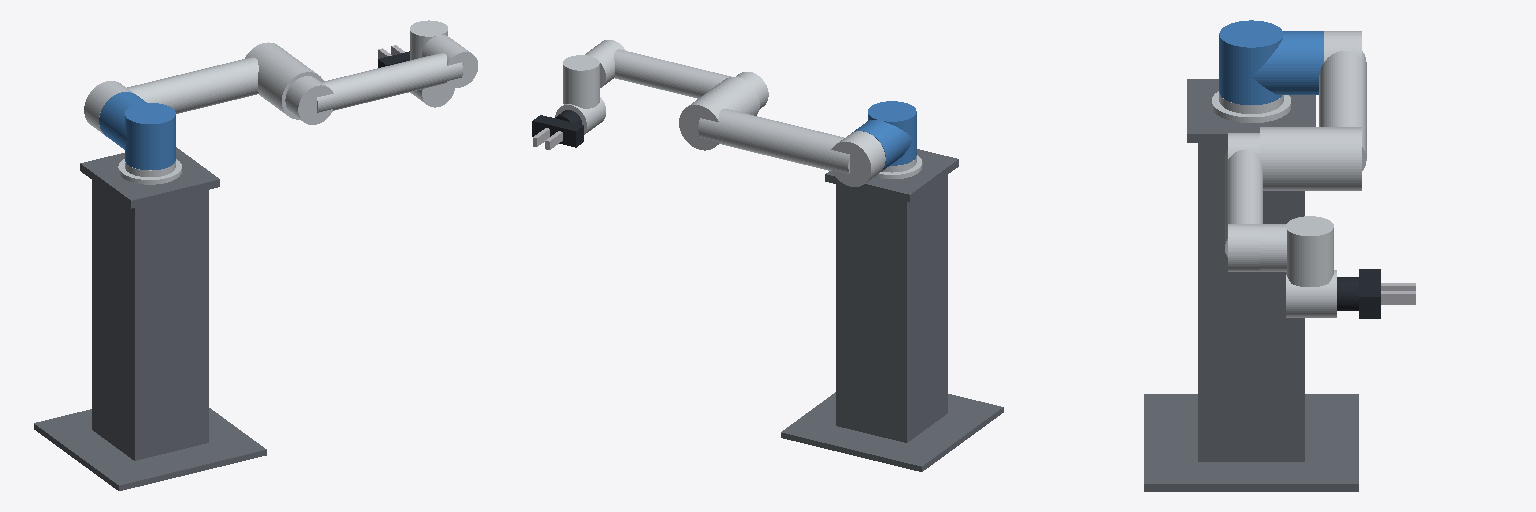
robot.urdf — ur5:
<?xml version="1.0" encoding="utf-8"?>
<!-- UR5 fixed manipulator
     Generated by build_models.py (CAD -> URDF). Meshes in package://ur5_description/meshes -->
<robot name="ur5">
  <link name="world"/>
  <link name="pedestal_link">
    <inertial>
      <origin xyz="0 0 0.327162" rpy="0 0 0"/>
      <mass value="25"/>
      <inertia ixx="1.28266" ixy="0" ixz="0" iyy="1.28266" iyz="0" izz="0.208436"/>
    </inertial>
    <visual>
      <origin xyz="0 0 0" rpy="0 0 0"/>
      <geometry>
        <mesh filename="package://ur5_description/meshes/pedestal_link.STL"/>
      </geometry>
      <material name="pedestal_link_material">
        <color rgba="0.45 0.47 0.5 1"/>
      </material>
    </visual>
    <collision>
      <origin xyz="0 0 0" rpy="0 0 0"/>
      <geometry>
        <mesh filename="package://ur5_description/meshes/pedestal_link.STL"/>
      </geometry>
    </collision>
  </link>
  <link name="base_link">
    <inertial>
      <origin xyz="0 0 0.0133971" rpy="0 0 0"/>
      <mass value="4"/>
      <inertia ixx="0.00489105" ixy="0" ixz="0" iyy="0.00489105" iyz="0" izz="0.00917701"/>
    </inertial>
    <visual>
      <origin xyz="0 0 0" rpy="0 0 0"/>
      <geometry>
        <mesh filename="package://ur5_description/meshes/base_link.STL"/>
      </geometry>
      <material name="base_link_material">
        <color rgba="0.8 0.82 0.84 1"/>
      </material>
    </visual>
    <collision>
      <origin xyz="0 0 0" rpy="0 0 0"/>
      <geometry>
        <mesh filename="package://ur5_description/meshes/base_link.STL"/>
      </geometry>
    </collision>
  </link>
  <link name="shoulder_link">
    <inertial>
      <origin xyz="0 0.035876 0.000234252" rpy="0 0 0"/>
      <mass value="3.7"/>
      <inertia ixx="0.0125603" ixy="0" ixz="0" iyy="0.00714574" iyz="3.10949e-05" izz="0.0120746"/>
    </inertial>
    <visual>
      <origin xyz="0 0 0" rpy="0 0 0"/>
      <geometry>
        <mesh filename="package://ur5_description/meshes/shoulder_link.STL"/>
      </geometry>
      <material name="shoulder_link_material">
        <color rgba="0.32 0.55 0.78 1"/>
      </material>
    </visual>
    <collision>
      <origin xyz="0 0 0" rpy="0 0 0"/>
      <geometry>
        <mesh filename="package://ur5_description/meshes/shoulder_link.STL"/>
      </geometry>
    </collision>
  </link>
  <link name="upper_arm_link">
    <inertial>
      <origin xyz="0 0.0117467 0.264596" rpy="0 0 0"/>
      <mass value="8.393"/>
      <inertia ixx="0.261276" ixy="0" ixz="0" iyy="0.247881" iyz="0.0313052" izz="0.0252335"/>
    </inertial>
    <visual>
      <origin xyz="0 0 0" rpy="0 0 0"/>
      <geometry>
        <mesh filename="package://ur5_description/meshes/upper_arm_link.STL"/>
      </geometry>
      <material name="upper_arm_link_material">
        <color rgba="0.8 0.82 0.84 1"/>
      </material>
    </visual>
    <collision>
      <origin xyz="0 0 0" rpy="0 0 0"/>
      <geometry>
        <mesh filename="package://ur5_description/meshes/upper_arm_link.STL"/>
      </geometry>
    </collision>
  </link>
  <link name="forearm_link">
    <inertial>
      <origin xyz="0 -0.03 0.188958" rpy="0 0 0"/>
      <mass value="2.275"/>
      <inertia ixx="0.0505335" ixy="0" ixz="0" iyy="0.0507488" iyz="0" izz="0.0016515"/>
    </inertial>
    <visual>
      <origin xyz="0 0 0" rpy="0 0 0"/>
      <geometry>
        <mesh filename="package://ur5_description/meshes/forearm_link.STL"/>
      </geometry>
      <material name="forearm_link_material">
        <color rgba="0.8 0.82 0.84 1"/>
      </material>
    </visual>
    <collision>
      <origin xyz="0 0 0" rpy="0 0 0"/>
      <geometry>
        <mesh filename="package://ur5_description/meshes/forearm_link.STL"/>
      </geometry>
    </collision>
  </link>
  <link name="wrist_1_link">
    <inertial>
      <origin xyz="0 0.0687143 0" rpy="0 0 0"/>
      <mass value="1.219"/>
      <inertia ixx="0.00253091" ixy="0" ixz="0" iyy="0.00136648" iyz="0" izz="0.00239867"/>
    </inertial>
    <visual>
      <origin xyz="0 0 0" rpy="0 0 0"/>
      <geometry>
        <mesh filename="package://ur5_description/meshes/wrist_1_link.STL"/>
      </geometry>
      <material name="wrist_1_link_material">
        <color rgba="0.8 0.82 0.84 1"/>
      </material>
    </visual>
    <collision>
      <origin xyz="0 0 0" rpy="0 0 0"/>
      <geometry>
        <mesh filename="package://ur5_description/meshes/wrist_1_link.STL"/>
      </geometry>
    </collision>
  </link>
  <link name="wrist_2_link">
    <inertial>
      <origin xyz="0 0.00215909 0.0889023" rpy="0 0 0"/>
      <mass value="1.219"/>
      <inertia ixx="0.00166796" ixy="0" ixz="0" iyy="0.00140825" iyz="-1.51276e-05" izz="0.00149394"/>
    </inertial>
    <visual>
      <origin xyz="0 0 0" rpy="0 0 0"/>
      <geometry>
        <mesh filename="package://ur5_description/meshes/wrist_2_link.STL"/>
      </geometry>
      <material name="wrist_2_link_material">
        <color rgba="0.8 0.82 0.84 1"/>
      </material>
    </visual>
    <collision>
      <origin xyz="0 0 0" rpy="0 0 0"/>
      <geometry>
        <mesh filename="package://ur5_description/meshes/wrist_2_link.STL"/>
      </geometry>
    </collision>
  </link>
  <link name="wrist_3_link">
    <inertial>
      <origin xyz="0 0.06615 0" rpy="0 0 0"/>
      <mass value="0.1879"/>
      <inertia ixx="6.44386e-05" ixy="0" ixz="0" iyy="9.62048e-05" iyz="0" izz="6.44386e-05"/>
    </inertial>
    <visual>
      <origin xyz="0 0 0" rpy="0 0 0"/>
      <geometry>
        <mesh filename="package://ur5_description/meshes/wrist_3_link.STL"/>
      </geometry>
      <material name="wrist_3_link_material">
        <color rgba="0.2 0.22 0.25 1"/>
      </material>
    </visual>
    <collision>
      <origin xyz="0 0 0" rpy="0 0 0"/>
      <geometry>
        <mesh filename="package://ur5_description/meshes/wrist_3_link.STL"/>
      </geometry>
    </collision>
  </link>
  <link name="tool0"/>
  <link name="gripper_base_link">
    <inertial>
      <origin xyz="0.0267883 0 0" rpy="0 0 0"/>
      <mass value="0.25"/>
      <inertia ixx="0.000330776" ixy="0" ixz="0" iyy="9.01869e-05" iyz="0" izz="0.000334216"/>
    </inertial>
    <visual>
      <origin xyz="0 0 0" rpy="0 0 0"/>
      <geometry>
        <mesh filename="package://ur5_description/meshes/gripper_base_link.STL"/>
      </geometry>
      <material name="gripper_base_link_material">
        <color rgba="0.2 0.22 0.25 1"/>
      </material>
    </visual>
    <collision>
      <origin xyz="0 0 0" rpy="0 0 0"/>
      <geometry>
        <mesh filename="package://ur5_description/meshes/gripper_base_link.STL"/>
      </geometry>
    </collision>
  </link>
  <link name="gripper_left_finger">
    <inertial>
      <origin xyz="0.0325 0.006 0" rpy="0 0 0"/>
      <mass value="0.03"/>
      <inertia ixx="1.8e-06" ixy="0" ixz="0" iyy="1.20025e-05" iyz="0" izz="1.09225e-05"/>
    </inertial>
    <visual>
      <origin xyz="0 0 0" rpy="0 0 0"/>
      <geometry>
        <mesh filename="package://ur5_description/meshes/gripper_left_finger.STL"/>
      </geometry>
      <material name="gripper_left_finger_material">
        <color rgba="0.75 0.75 0.78 1"/>
      </material>
    </visual>
    <collision>
      <origin xyz="0 0 0" rpy="0 0 0"/>
      <geometry>
        <mesh filename="package://ur5_description/meshes/gripper_left_finger.STL"/>
      </geometry>
    </collision>
  </link>
  <link name="gripper_right_finger">
    <inertial>
      <origin xyz="0.0325 -0.006 0" rpy="0 0 0"/>
      <mass value="0.03"/>
      <inertia ixx="1.8e-06" ixy="0" ixz="0" iyy="1.20025e-05" iyz="0" izz="1.09225e-05"/>
    </inertial>
    <visual>
      <origin xyz="0 0 0" rpy="0 0 0"/>
      <geometry>
        <mesh filename="package://ur5_description/meshes/gripper_right_finger.STL"/>
      </geometry>
      <material name="gripper_right_finger_material">
        <color rgba="0.75 0.75 0.78 1"/>
      </material>
    </visual>
    <collision>
      <origin xyz="0 0 0" rpy="0 0 0"/>
      <geometry>
        <mesh filename="package://ur5_description/meshes/gripper_right_finger.STL"/>
      </geometry>
    </collision>
  </link>
  <link name="grasp_point"/>
  <joint name="world_joint" type="fixed">
    <origin xyz="0 0 0" rpy="0 0 0"/>
    <parent link="world"/>
    <child link="pedestal_link"/>
  </joint>
  <joint name="pedestal_joint" type="fixed">
    <origin xyz="0 0 0.7" rpy="0 0 0"/>
    <parent link="pedestal_link"/>
    <child link="base_link"/>
  </joint>
  <joint name="shoulder_pan_joint" type="revolute">
    <origin xyz="0 0 0.089159" rpy="0 0 0"/>
    <parent link="base_link"/>
    <child link="shoulder_link"/>
    <axis xyz="0 0 1"/>
    <limit lower="-6.28319" upper="6.28319" effort="150" velocity="3.15"/>
    <dynamics damping="0.1" friction="0.0"/>
  </joint>
  <joint name="shoulder_lift_joint" type="revolute">
    <origin xyz="0 0.13585 0" rpy="0 1.5708 0"/>
    <parent link="shoulder_link"/>
    <child link="upper_arm_link"/>
    <axis xyz="0 1 0"/>
    <limit lower="-6.28319" upper="6.28319" effort="150" velocity="3.15"/>
    <dynamics damping="0.1" friction="0.0"/>
  </joint>
  <joint name="elbow_joint" type="revolute">
    <origin xyz="0 -0.1197 0.425" rpy="0 0 0"/>
    <parent link="upper_arm_link"/>
    <child link="forearm_link"/>
    <axis xyz="0 1 0"/>
    <limit lower="-3.14159" upper="3.14159" effort="150" velocity="3.15"/>
    <dynamics damping="0.1" friction="0.0"/>
  </joint>
  <joint name="wrist_1_joint" type="revolute">
    <origin xyz="0 0 0.39225" rpy="0 1.5708 0"/>
    <parent link="forearm_link"/>
    <child link="wrist_1_link"/>
    <axis xyz="0 1 0"/>
    <limit lower="-6.28319" upper="6.28319" effort="28" velocity="3.2"/>
    <dynamics damping="0.1" friction="0.0"/>
  </joint>
  <joint name="wrist_2_joint" type="revolute">
    <origin xyz="0 0.093 0" rpy="0 0 0"/>
    <parent link="wrist_1_link"/>
    <child link="wrist_2_link"/>
    <axis xyz="0 0 1"/>
    <limit lower="-6.28319" upper="6.28319" effort="28" velocity="3.2"/>
    <dynamics damping="0.1" friction="0.0"/>
  </joint>
  <joint name="wrist_3_joint" type="revolute">
    <origin xyz="0 0 0.09465" rpy="0 0 0"/>
    <parent link="wrist_2_link"/>
    <child link="wrist_3_link"/>
    <axis xyz="0 1 0"/>
    <limit lower="-6.28319" upper="6.28319" effort="28" velocity="3.2"/>
    <dynamics damping="0.1" friction="0.0"/>
  </joint>
  <joint name="tool0_joint" type="fixed">
    <origin xyz="0 0.0823 0" rpy="0 0 1.5708"/>
    <parent link="wrist_3_link"/>
    <child link="tool0"/>
  </joint>
  <joint name="gripper_mount_joint" type="fixed">
    <origin xyz="0 0 0" rpy="0 0 0"/>
    <parent link="tool0"/>
    <child link="gripper_base_link"/>
  </joint>
  <joint name="gripper_left_joint" type="prismatic">
    <origin xyz="0.05 0.012 0" rpy="0 0 0"/>
    <parent link="gripper_base_link"/>
    <child link="gripper_left_finger"/>
    <axis xyz="0 1 0"/>
    <limit lower="0" upper="0.035" effort="40" velocity="0.1"/>
    <dynamics damping="0.1" friction="0.0"/>
  </joint>
  <joint name="gripper_right_joint" type="prismatic">
    <origin xyz="0.05 -0.012 0" rpy="0 0 0"/>
    <parent link="gripper_base_link"/>
    <child link="gripper_right_finger"/>
    <axis xyz="0 -1 0"/>
    <limit lower="0" upper="0.035" effort="40" velocity="0.1"/>
    <dynamics damping="0.1" friction="0.0"/>
  </joint>
  <joint name="grasp_point_joint" type="fixed">
    <origin xyz="0.095 0 0" rpy="0 0 0"/>
    <parent link="gripper_base_link"/>
    <child link="grasp_point"/>
  </joint>
</robot>

--- Render facts (derived) ---
Views: 3 orthographic renders of the robot side by side, from view 1: azimuth 30°, elevation 25°; view 2: azimuth 150°, elevation 25°; view 3: azimuth 270°, elevation 25°.
Model ur5 with 14 links and 13 joints (6 revolute, 2 prismatic, 5 fixed), rooted at world, posed all joints at 0.
Links seen in each view (by area): view 1: pedestal_link, upper_arm_link, forearm_link, shoulder_link, wrist_1_link, base_link, wrist_2_link; view 2: pedestal_link, upper_arm_link, forearm_link, shoulder_link, wrist_1_link, gripper_base_link, wrist_2_link, base_link; view 3: pedestal_link, upper_arm_link, shoulder_link, forearm_link, wrist_1_link, wrist_2_link, base_link, gripper_base_link, wrist_3_link.
Link boxes in pixels (box(x1,y1,x2,y2)): pedestal_link: box(34, 147, 266, 490); upper_arm_link: box(84, 42, 323, 133); forearm_link: box(285, 43, 477, 124); shoulder_link: box(99, 92, 175, 169); wrist_1_link: box(410, 20, 459, 59); base_link: box(118, 159, 181, 184); wrist_2_link: box(410, 83, 454, 107); pedestal_link: box(781, 149, 1003, 471); upper_arm_link: box(679, 77, 885, 186); forearm_link: box(591, 40, 768, 109); shoulder_link: box(852, 101, 916, 171); wrist_1_link: box(563, 49, 614, 103); gripper_base_link: box(532, 115, 583, 147); wrist_2_link: box(555, 97, 605, 134); base_link: box(875, 155, 922, 178); pedestal_link: box(1144, 79, 1358, 491); upper_arm_link: box(1260, 31, 1366, 190); shoulder_link: box(1219, 20, 1323, 104); forearm_link: box(1225, 133, 1262, 271); wrist_1_link: box(1260, 216, 1333, 279); wrist_2_link: box(1286, 270, 1336, 317); base_link: box(1212, 91, 1290, 122); gripper_base_link: box(1354, 269, 1380, 318); wrist_3_link: box(1337, 277, 1353, 310).
Size in the robot's own frame: 1.08 by 0.5065 by 0.8492 metres.
Meshes: 11 distinct files referenced, 11 mesh visuals loaded (11 binary STL).
